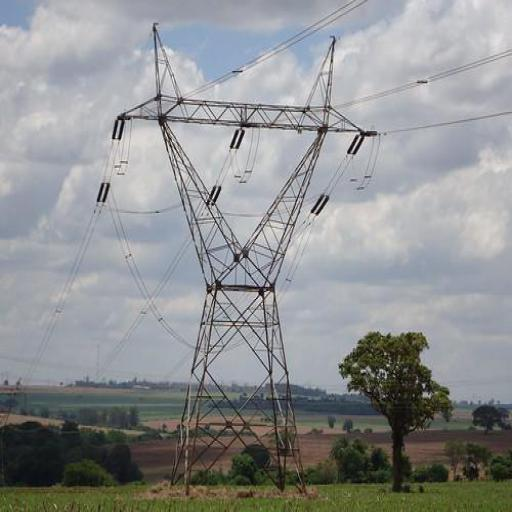wt_6: (116, 24, 364, 498)
